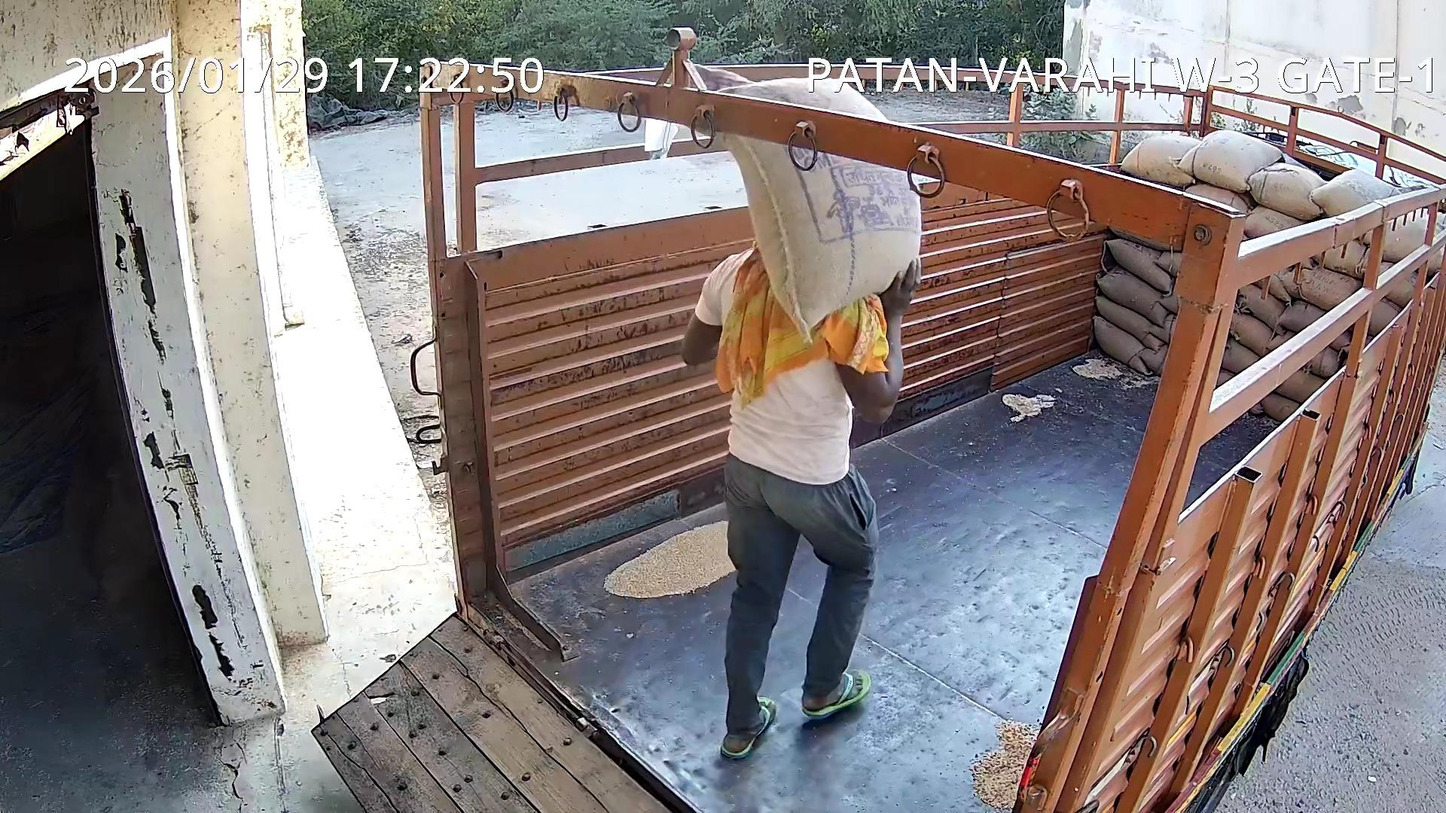Sack: (721, 120, 922, 327), (719, 78, 887, 120)
